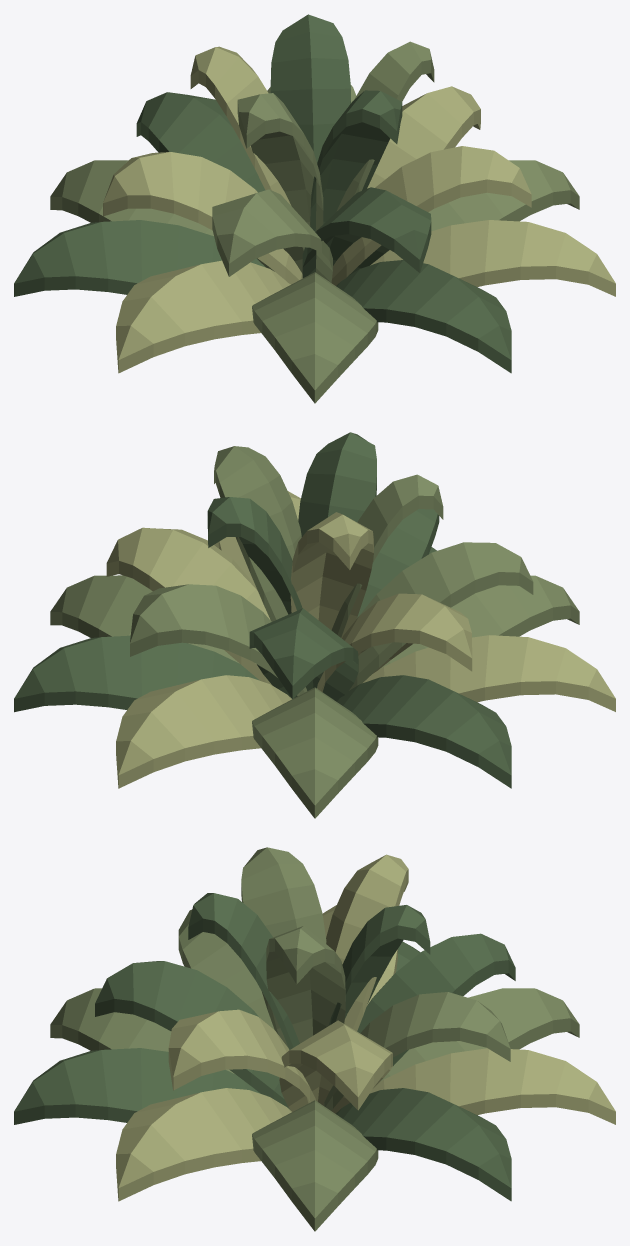
Rendered from SUCCULENT_ROSETTE.hi.glb.
The picture shows the model from 3 angles, top to bottom: view 1: azimuth 30°, elevation 25°; view 2: azimuth 150°, elevation 25°; view 3: azimuth 270°, elevation 25°; orthographic projection.
Parts seen in each view (by area): view 1: SUCCULENT_ROSETTE; view 2: SUCCULENT_ROSETTE; view 3: SUCCULENT_ROSETTE.
Part boxes in pixels (bbox=[...]): SUCCULENT_ROSETTE: bbox=[14, 14, 615, 403]; SUCCULENT_ROSETTE: bbox=[14, 432, 615, 818]; SUCCULENT_ROSETTE: bbox=[14, 847, 615, 1231].
Size of the model in its own units: 0.4851 by 0.2358 by 0.4926.
1 material, 1 textured.
